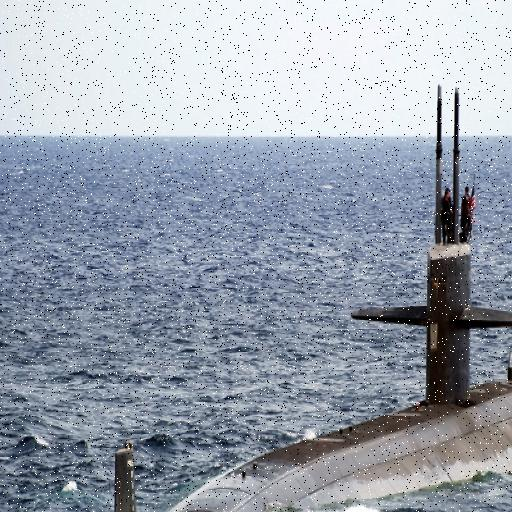submarine: (105, 83, 512, 512)
